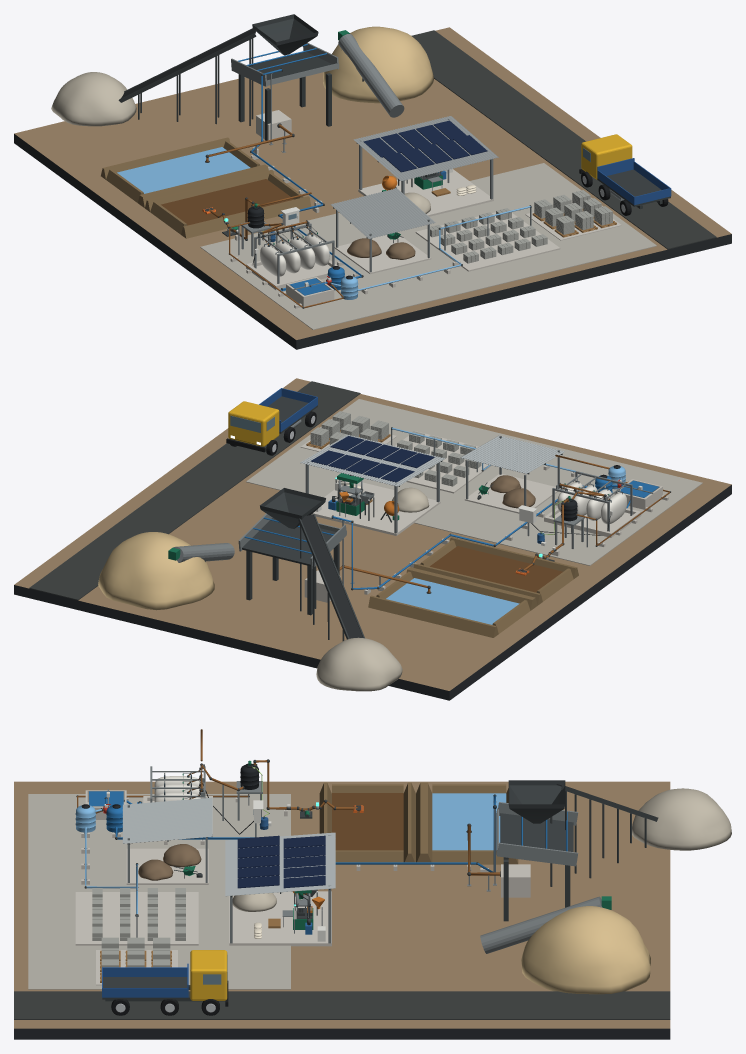
The model's file is mineloop_ar (2).glb.
3 renders of one model, top to bottom at view 1: azimuth 30°, elevation 25°; view 2: azimuth 150°, elevation 25°; view 3: azimuth 270°, elevation 25°, orthographic. The views are drawn at different scales.
Parts seen in each view (by area): view 1: Context_static, Z6_Curing_static, Pipes_static, Z5_Press_static, Cake_roof, Pit_sludge, Truck_bed, Shed_roof, Z2_Bags_static, Z4_Cake_static, Truck_cab, Z7_Stock_static (+2 smaller); view 2: Context_static, Z5_Press_static, Pipes_static, Pit_sludge, Z6_Curing_static, Cake_roof, Z2_Bags_static, Shed_roof, Truck_cab, Z4_Cake_static, Truck_bed, Z3_Grader_static (+1 smaller); view 3: Context_static, Z6_Curing_static, Z5_Press_static, Pit_sludge, Cake_roof, Pipes_static, Truck_bed, Shed_roof, Z4_Cake_static, Truck_cab, Z2_Bags_static, Cake_heap_1 (+2 smaller).
Part boxes in pixels (x1,y1,x2,y2): Context_static: [14, 14, 731, 349]; Z6_Curing_static: [415, 206, 560, 271]; Pipes_static: [202, 68, 531, 308]; Z5_Press_static: [358, 119, 493, 216]; Cake_roof: [330, 188, 435, 238]; Pit_sludge: [161, 179, 293, 225]; Truck_bed: [597, 158, 671, 206]; Shed_roof: [353, 116, 498, 180]; Z2_Bags_static: [246, 223, 337, 291]; Z4_Cake_static: [334, 210, 431, 274]; Truck_cab: [581, 134, 632, 179]; Z7_Stock_static: [525, 203, 621, 240]; Context_static: [14, 378, 731, 700]; Z5_Press_static: [305, 462, 440, 535]; Pipes_static: [331, 427, 670, 594]; Pit_sludge: [430, 546, 562, 592]; Z6_Curing_static: [391, 430, 491, 493]; Cake_roof: [460, 435, 565, 474]; Z2_Bags_static: [531, 471, 641, 537]; Shed_roof: [300, 434, 445, 486]; Truck_cab: [228, 401, 279, 446]; Z4_Cake_static: [464, 436, 560, 513]; Truck_bed: [259, 388, 317, 433]; Z3_Grader_static: [614, 479, 662, 509]; Context_static: [14, 780, 731, 1039]; Z6_Curing_static: [75, 866, 198, 945]; Z5_Press_static: [229, 835, 331, 946]; Pit_sludge: [332, 793, 403, 850]; Cake_roof: [122, 797, 212, 844]; Pipes_static: [76, 729, 500, 916]; Truck_bed: [102, 963, 188, 999]; Shed_roof: [225, 832, 335, 897]; Z4_Cake_static: [126, 805, 208, 884]; Truck_cab: [190, 950, 227, 1000]; Z2_Bags_static: [137, 766, 253, 837]; Cake_heap_1: [163, 844, 201, 867].
Bounding box in the file's own units: 28.5 × 6.55 × 35.01.
